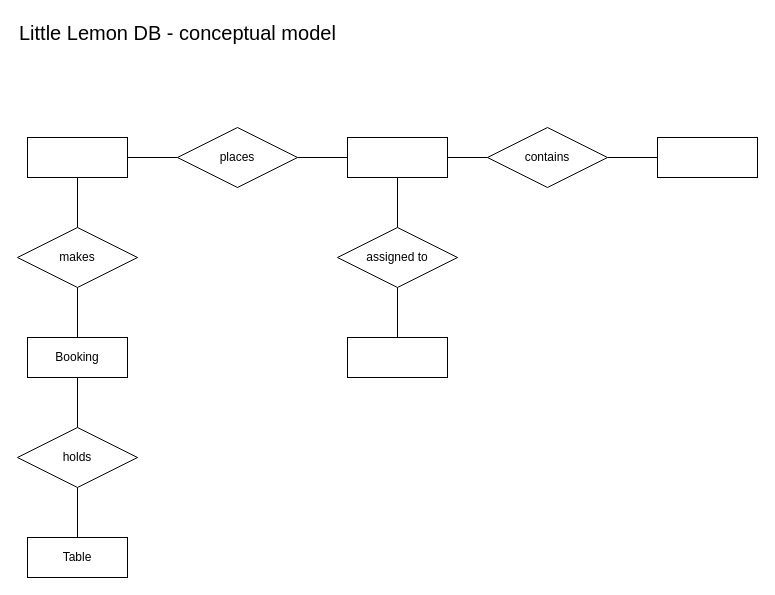
Image size: 775x595. Some labels were removed from this diagram. The box of each missing label's shape, as (x1, y1, x2, y2) in pixels:
Customer: (26, 136, 128, 178)
Item: (656, 136, 758, 178)
Order: (346, 136, 448, 178)
Staff: (346, 336, 448, 378)
